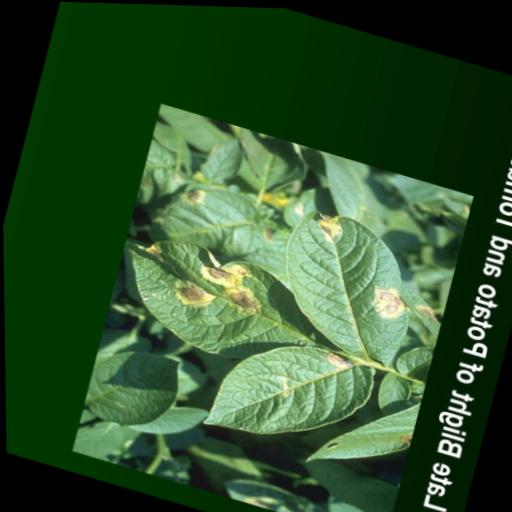Late Blight: (111, 223, 313, 377), (262, 195, 435, 374), (198, 317, 385, 468)
